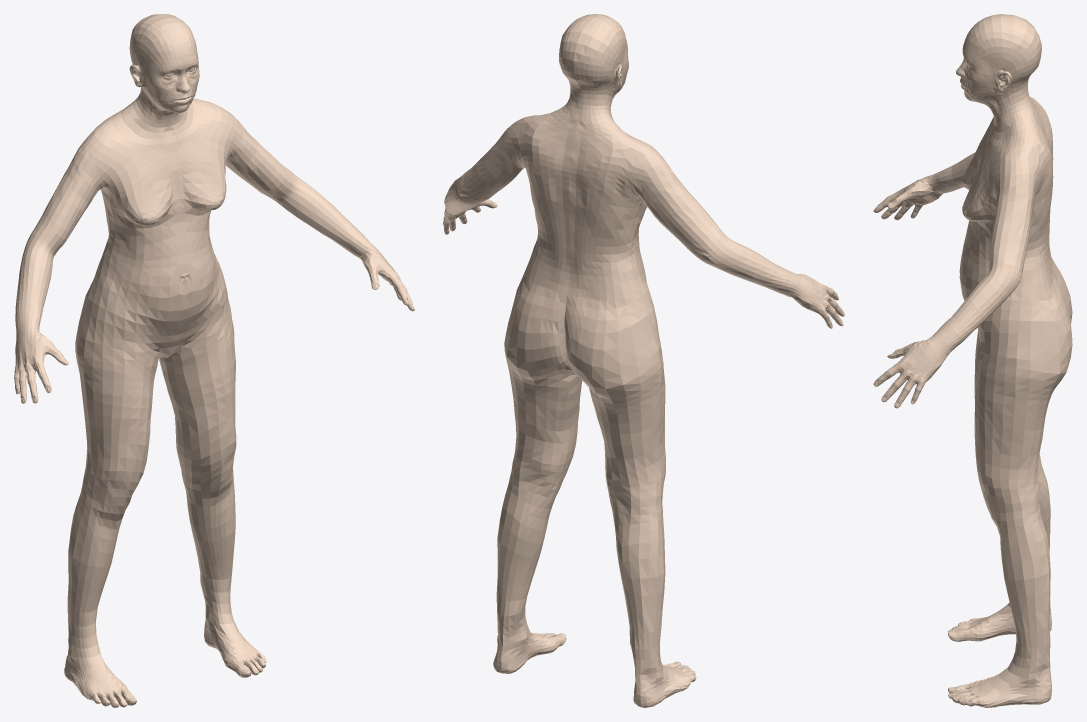
The model's file is female-older-max-medium.glb.
The picture shows the model from 3 angles, left to right: view 1: azimuth 30°, elevation 25°; view 2: azimuth 150°, elevation 25°; view 3: azimuth 270°, elevation 25°; orthographic projection.
Parts seen in each view (by area): view 1: world; view 2: world; view 3: world.
Part boxes in pixels (bbox=[...]): world: bbox=[14, 14, 414, 707]; world: bbox=[443, 14, 844, 707]; world: bbox=[873, 14, 1072, 707].
Bounding box in the file's own units: 1.13 × 1.81 × 0.5006.
